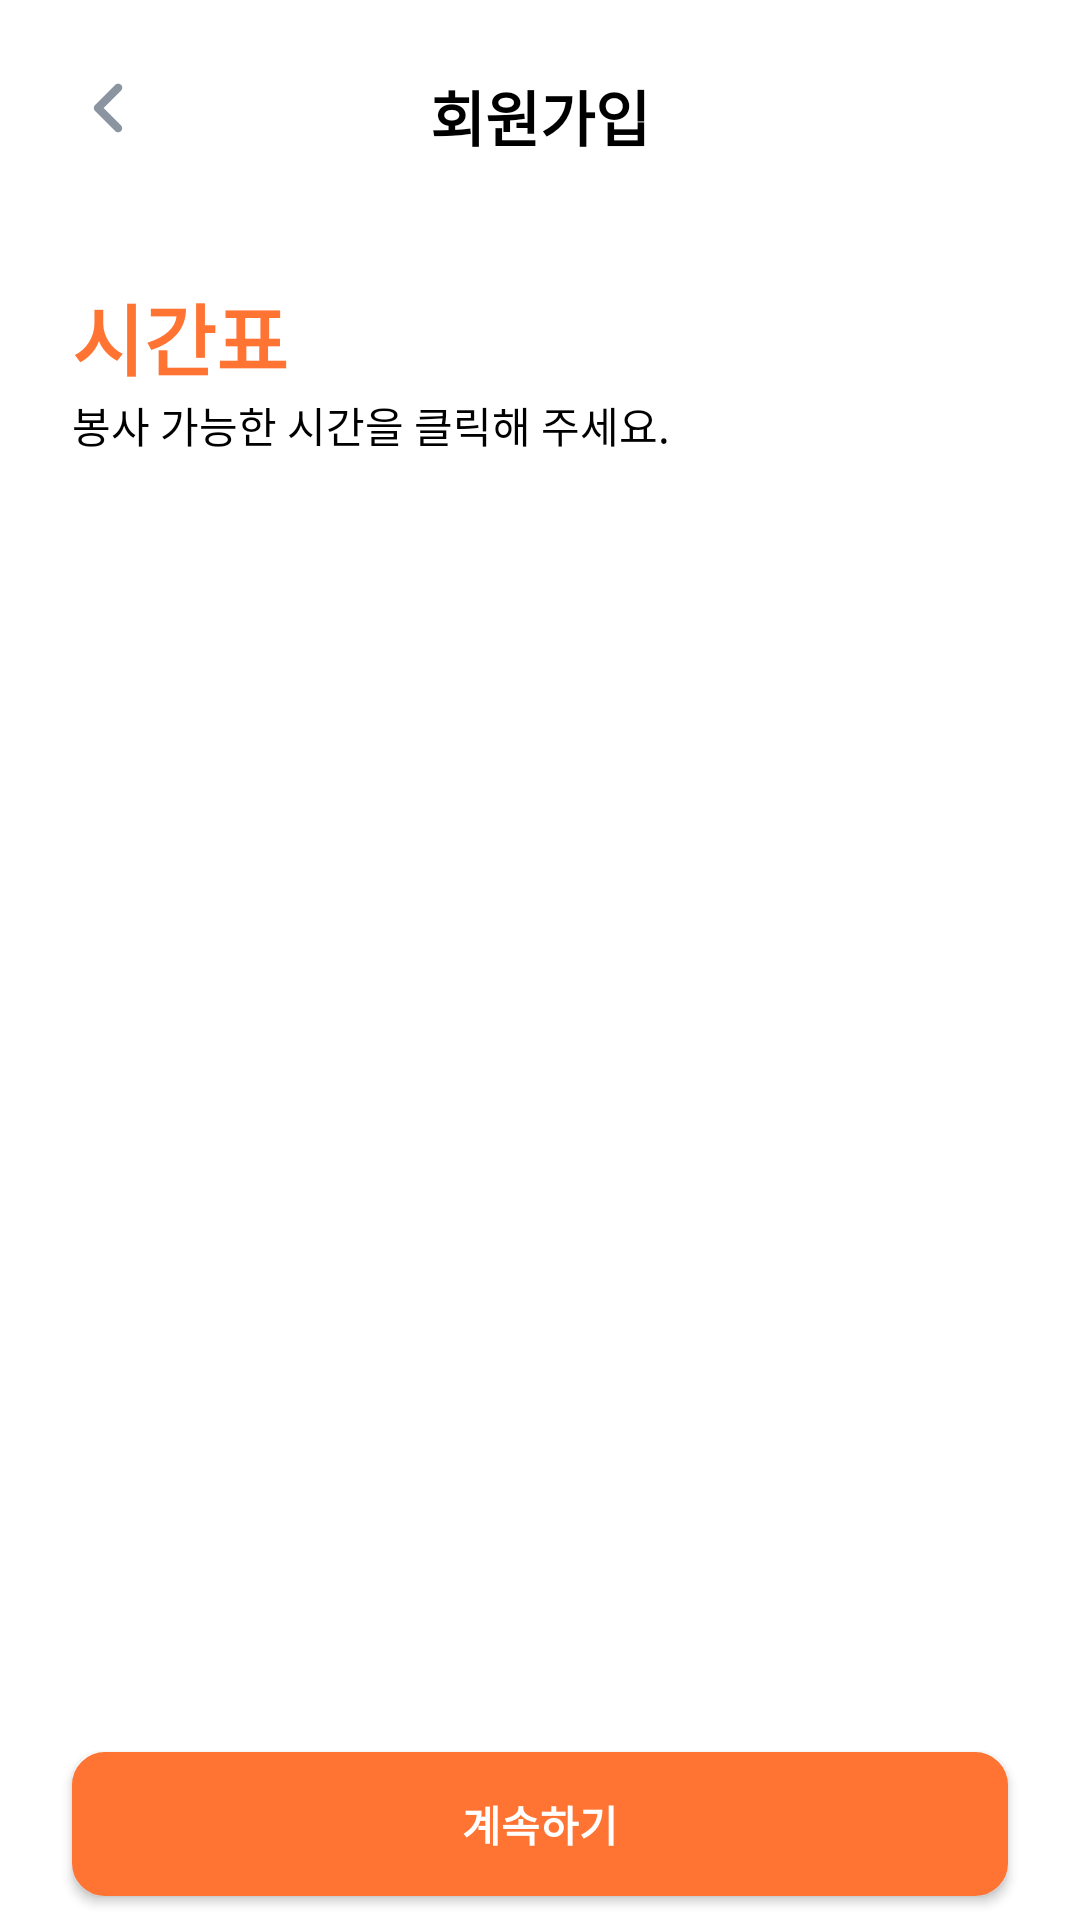

Point at icon controls on the screen. Image size 1080x1920, points as [x,y].
arrow left mono: [108,108]
